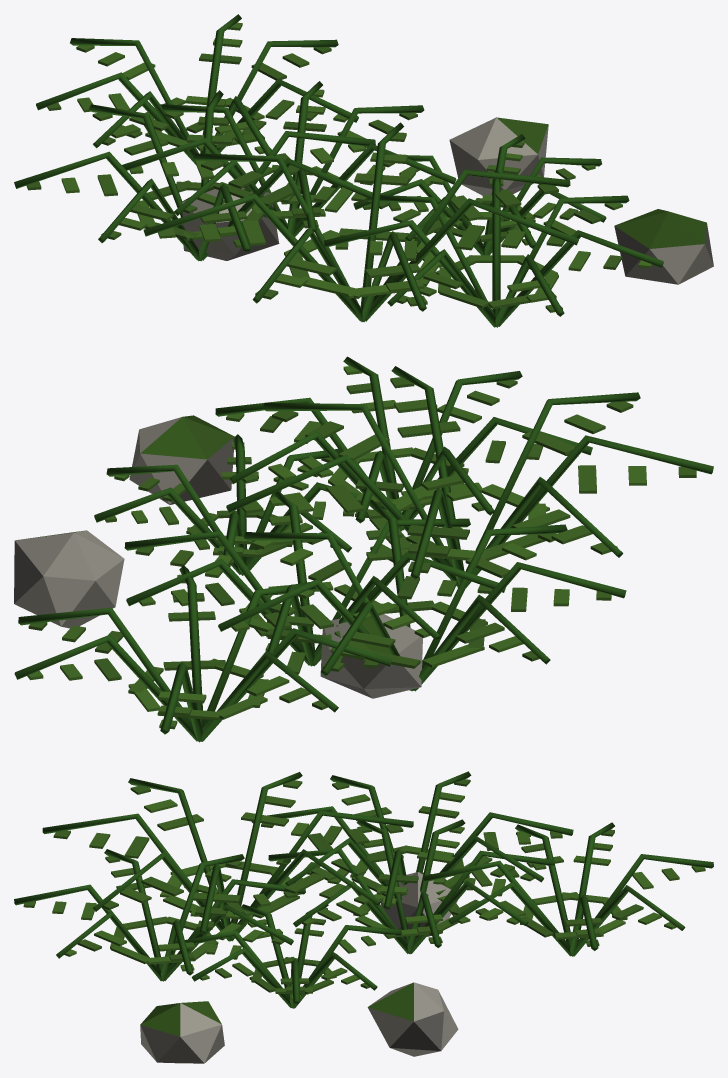
The model's file is fern_cluster.glb.
The picture shows the model from 3 angles, top to bottom: view 1: azimuth 30°, elevation 25°; view 2: azimuth 150°, elevation 25°; view 3: azimuth 270°, elevation 25°; orthographic projection. The views are drawn at different scales.
Visible parts, largest first — view 1: Mesh; view 2: Mesh; view 3: Mesh.
Part boxes in pixels (x1,y1,x2,y2): Mesh: (14, 14, 713, 327); Mesh: (14, 356, 713, 742); Mesh: (14, 771, 713, 1063).
Size of the model in its own units: 2.25 by 0.6184 by 2.97.
